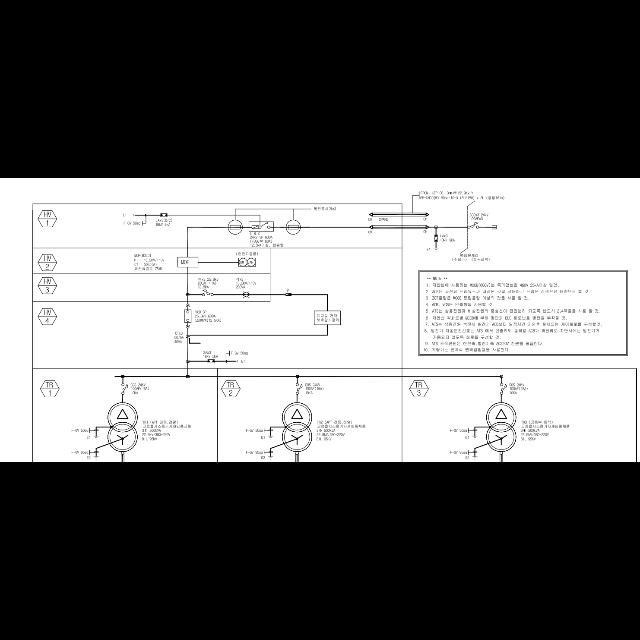CB: (184, 310, 192, 322)
CH: (369, 213, 373, 217), (426, 213, 429, 217), (426, 224, 428, 230), (370, 225, 372, 229)
CT: (186, 335, 190, 339)
GND: (131, 212, 135, 218), (433, 248, 439, 252), (235, 358, 239, 364), (93, 436, 99, 440), (93, 456, 99, 460), (268, 436, 274, 440), (268, 456, 274, 460), (472, 436, 478, 440), (472, 456, 478, 460)
LA: (434, 234, 438, 242), (161, 213, 167, 217), (208, 359, 214, 363)
MOF: (178, 257, 198, 267)
PF: (499, 383, 506, 395), (202, 290, 214, 296), (468, 222, 478, 228), (122, 384, 128, 394), (296, 384, 302, 394)
PF2: (286, 294, 292, 296)
PT: (242, 291, 250, 297)
TR: (108, 402, 138, 452), (282, 402, 312, 452), (487, 402, 517, 452)
